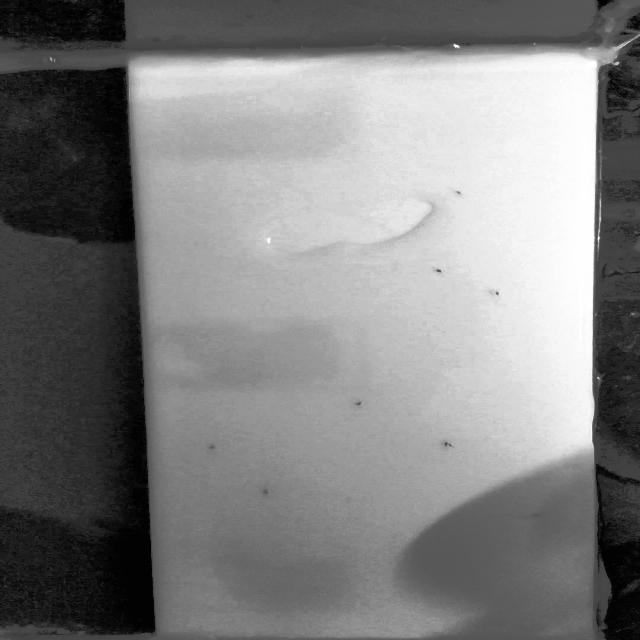shrimp: (418, 262, 460, 284), (516, 504, 557, 526), (434, 181, 478, 199), (482, 286, 520, 306), (342, 394, 374, 414), (432, 437, 466, 455), (250, 483, 286, 499), (204, 441, 222, 457)
